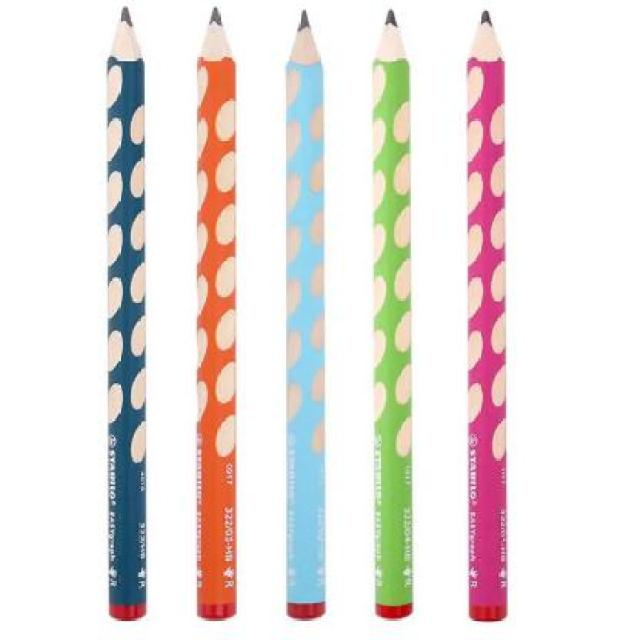pencil: (185, 6, 247, 626), (360, 5, 422, 624), (457, 7, 515, 627), (277, 5, 334, 624), (99, 3, 154, 625)
